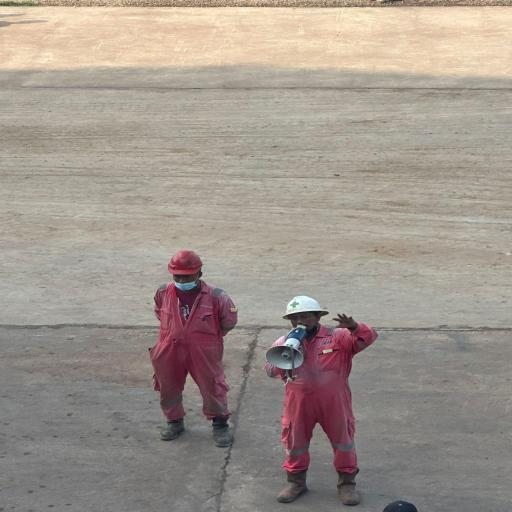safety_shoe: (330, 468, 370, 508), (271, 466, 310, 504), (154, 416, 193, 444), (209, 418, 239, 448)
